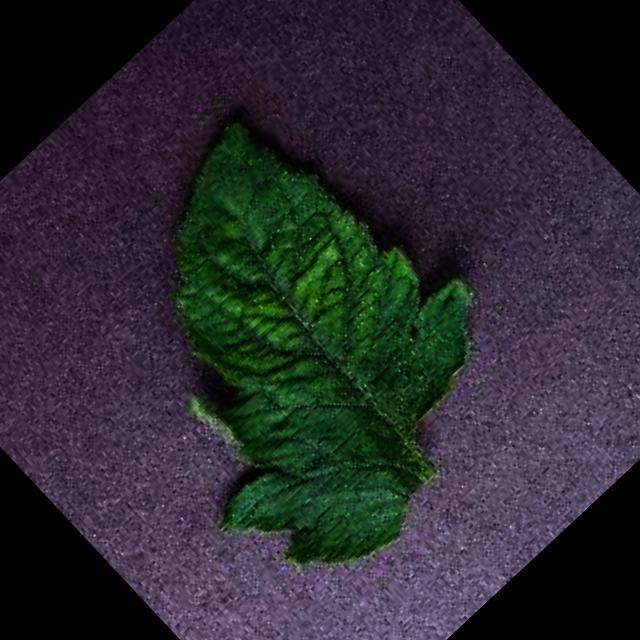Tomato mosaic virus leaf: (14, 74, 558, 622)
